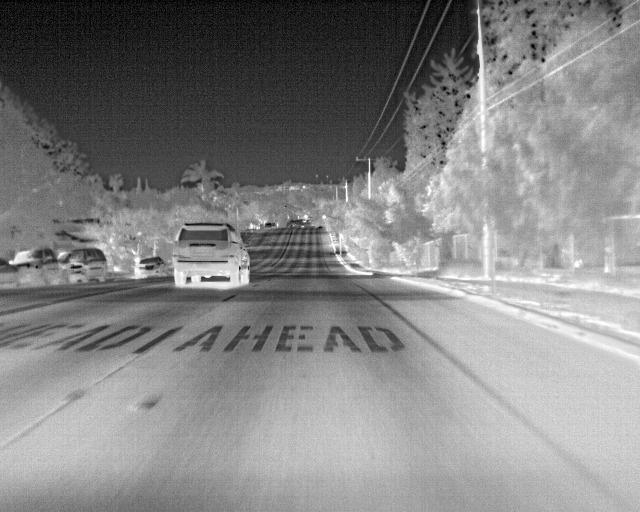car: (168, 217, 254, 290), (56, 243, 114, 283), (14, 245, 69, 286), (127, 247, 172, 280), (1, 245, 30, 287), (284, 214, 323, 233)
